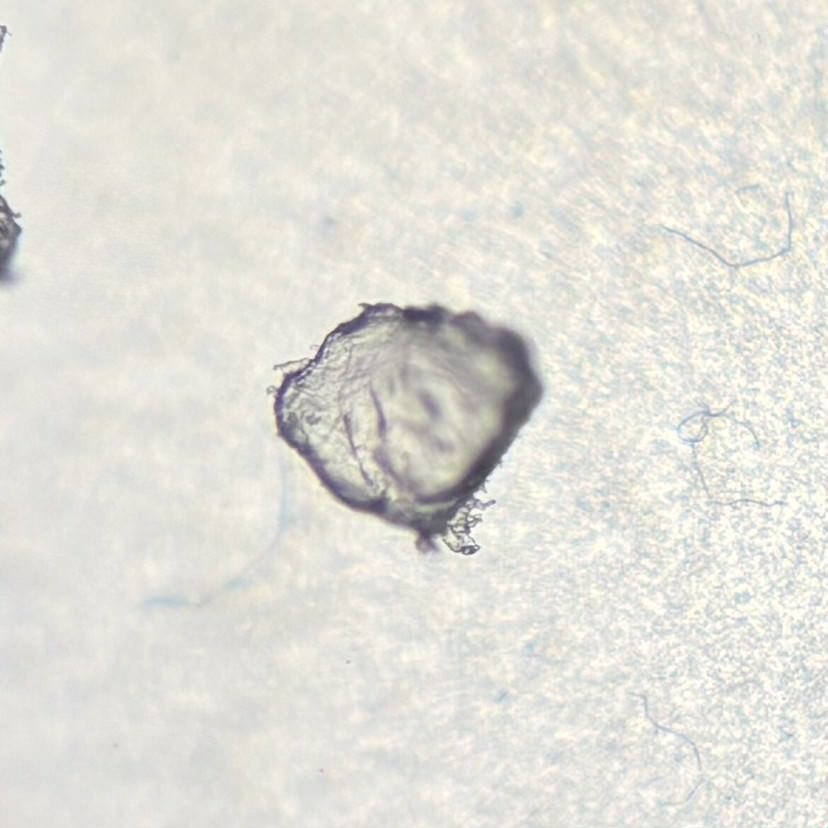microplastic: (268, 299, 546, 556), (1, 149, 30, 294)
